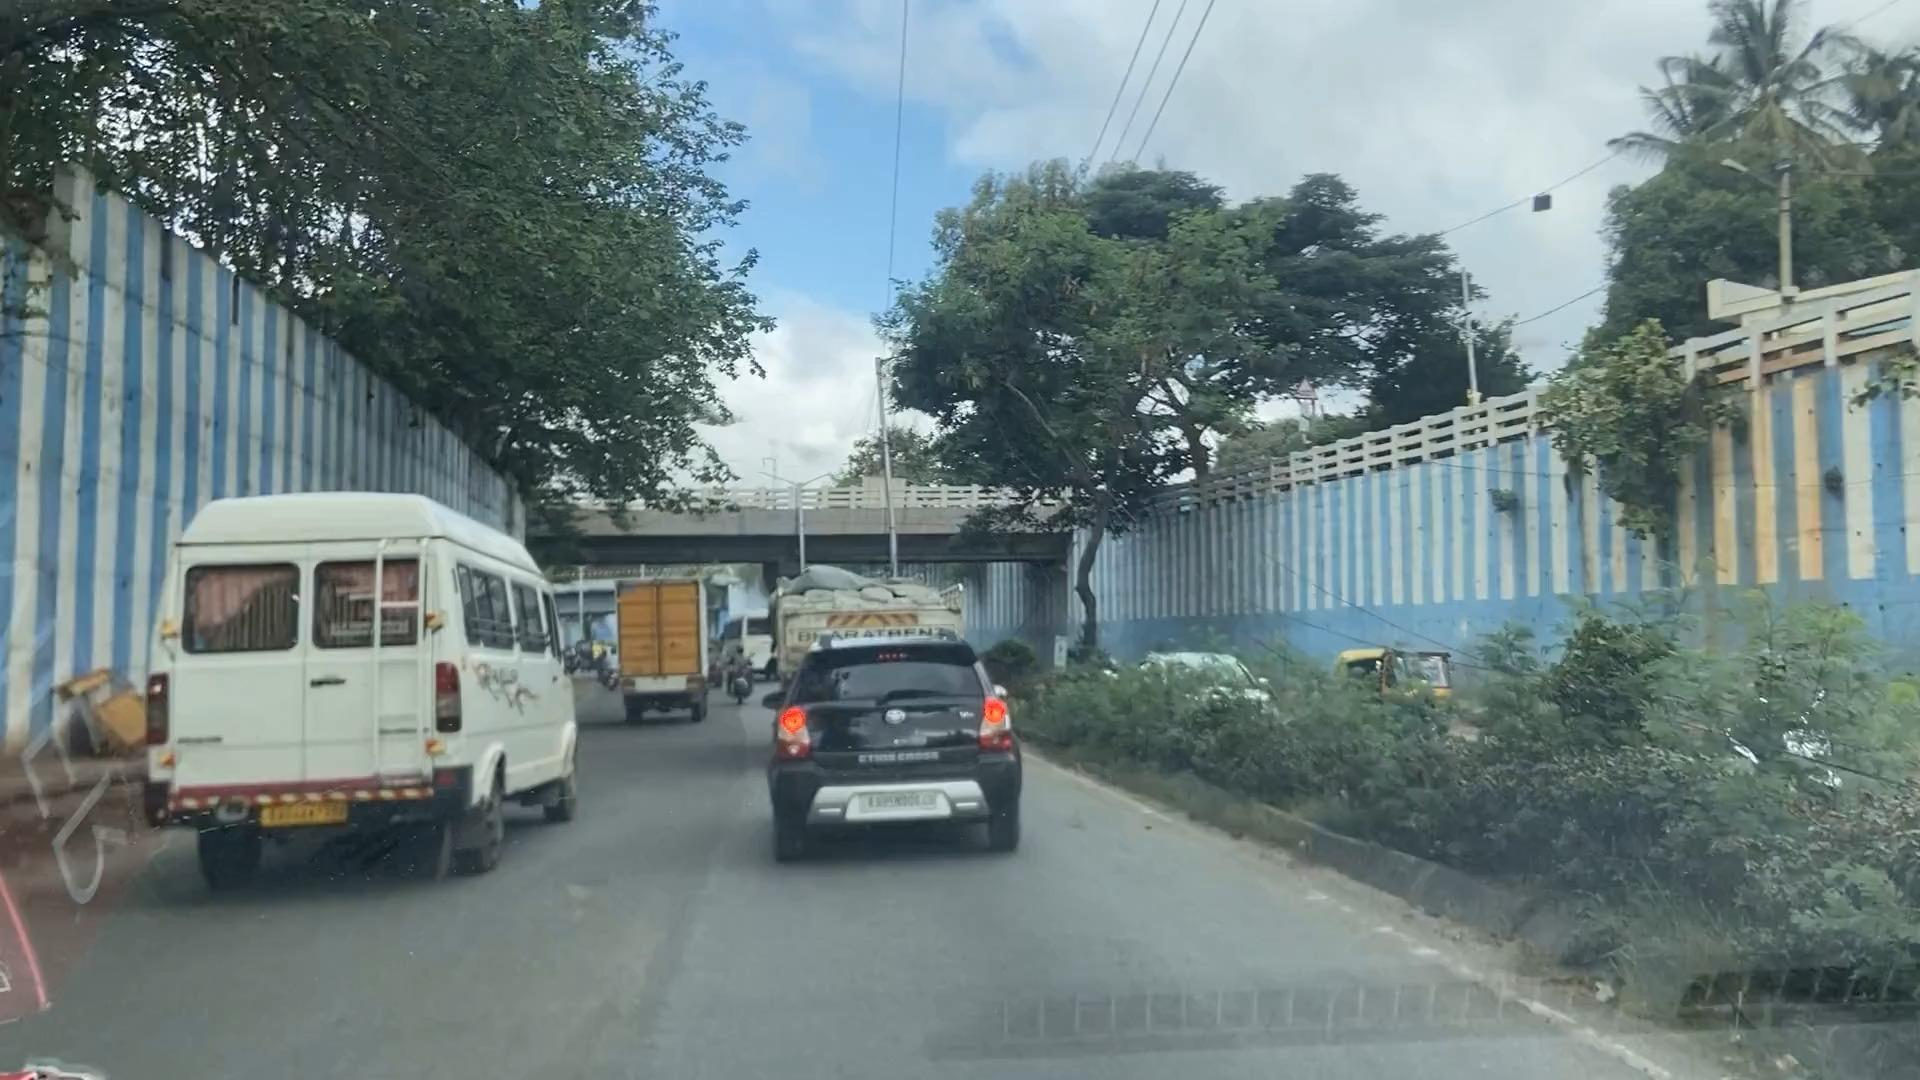HMV: (154, 491, 567, 897), (617, 582, 708, 717)
LMV: (771, 641, 1023, 862)
